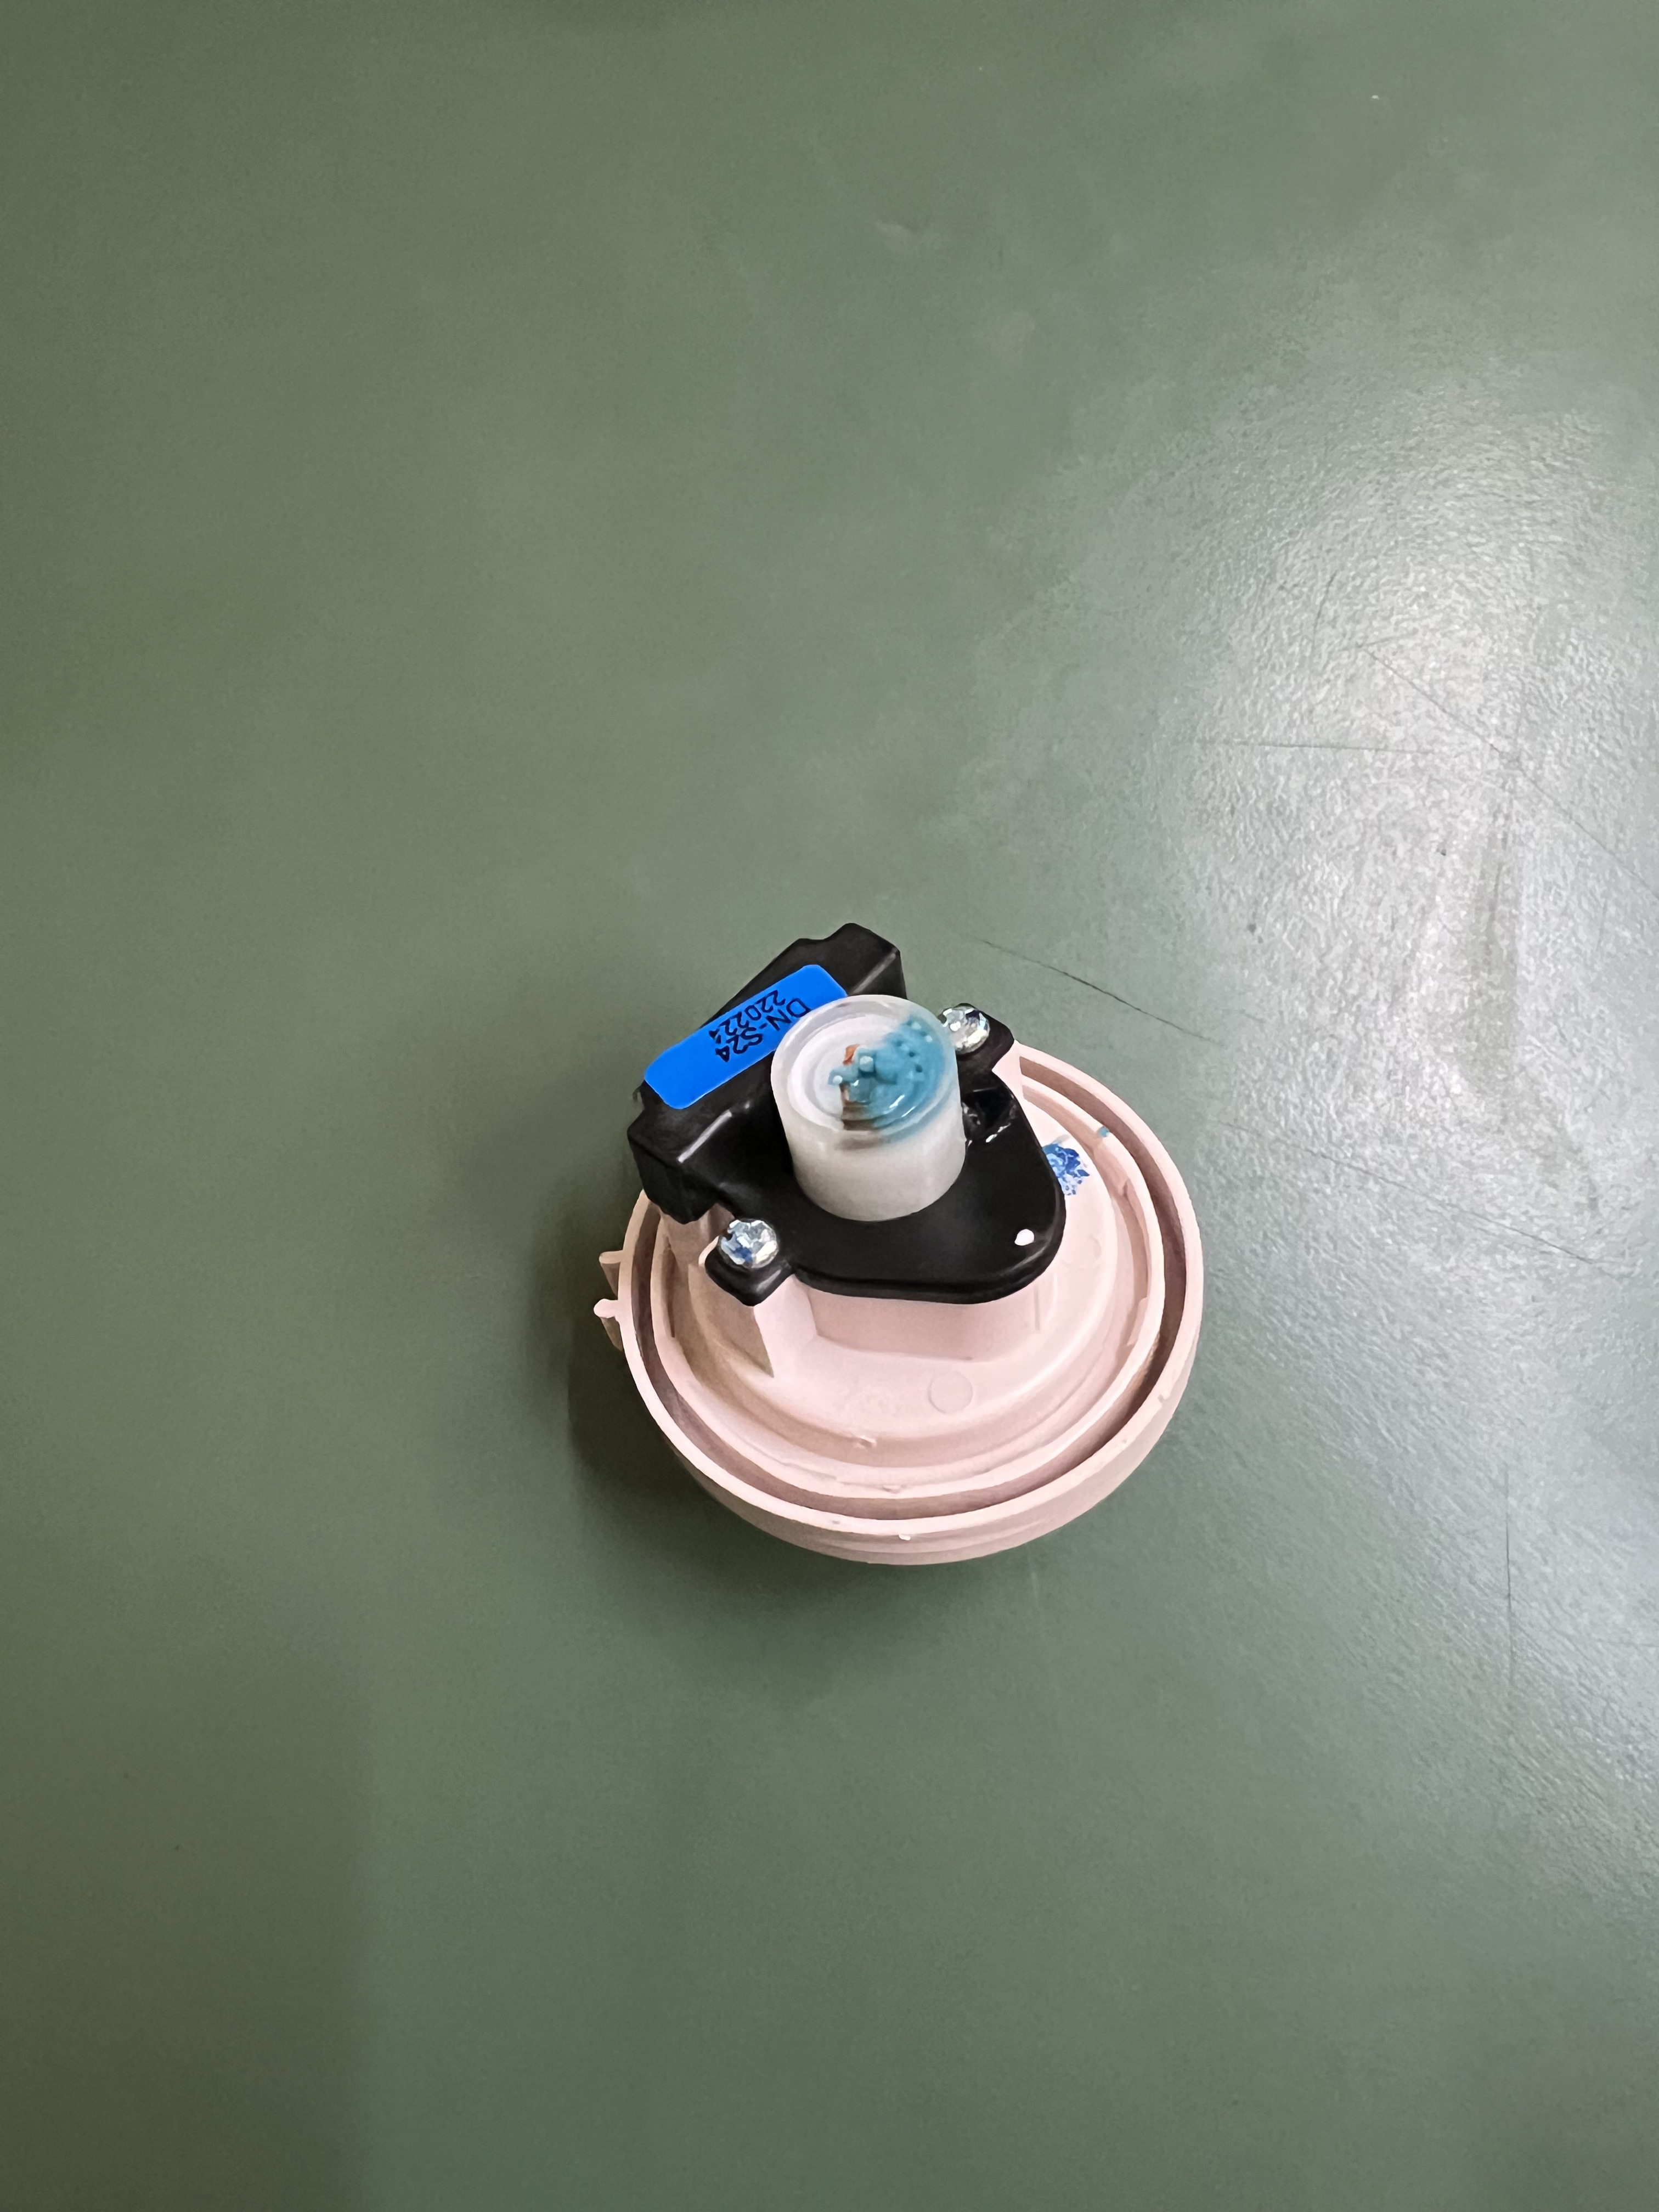pressure_sensor: (577, 913, 1229, 1566)
